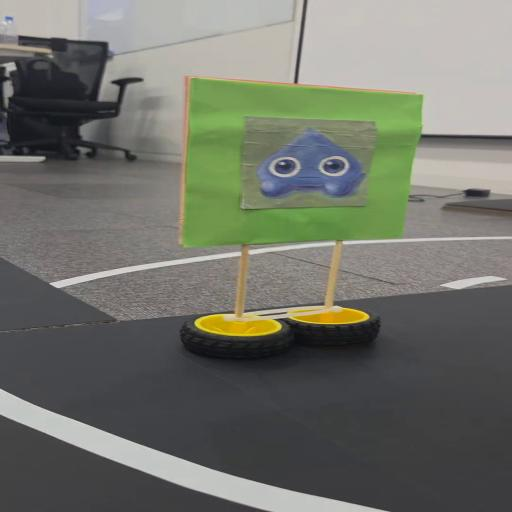Sign_B: (170, 70, 416, 356)
